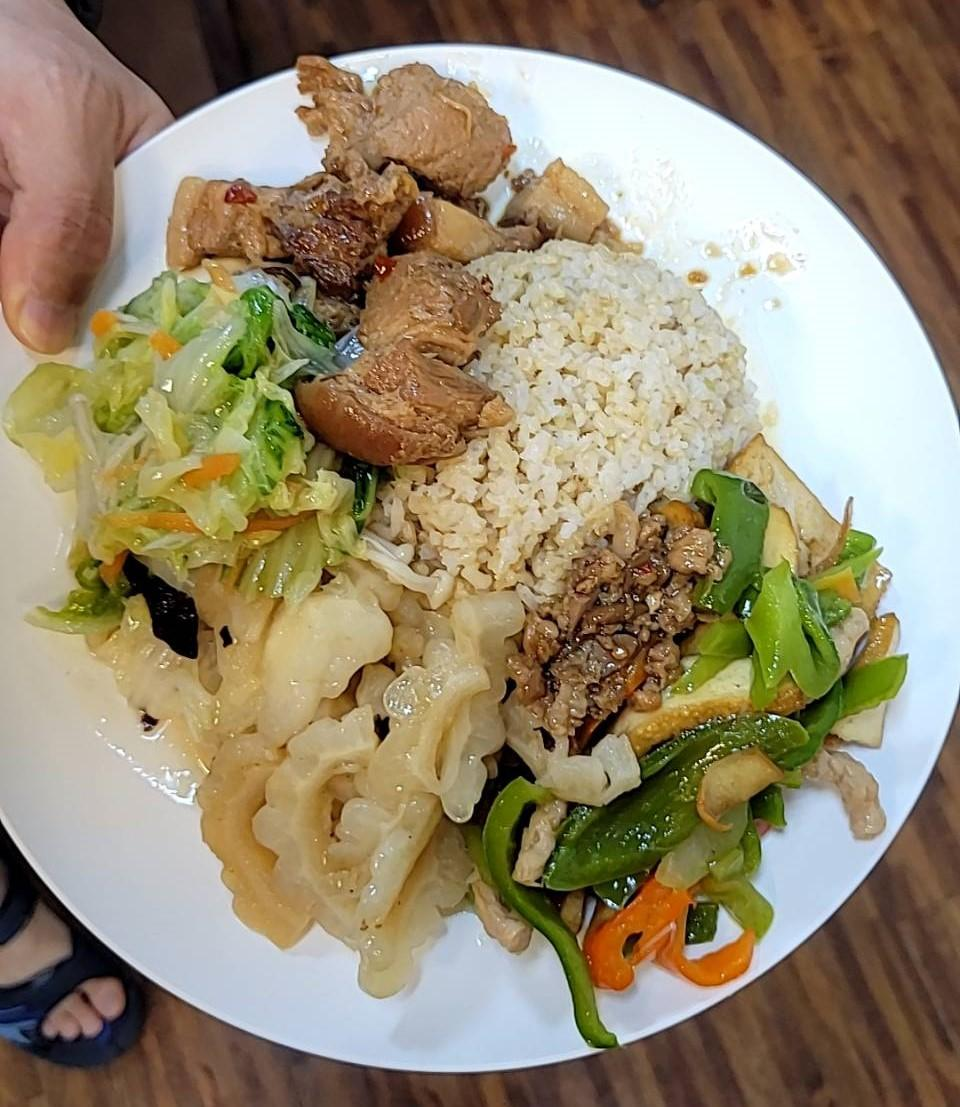big fried chicken leg: (0, 25, 946, 1099)
box: (323, 226, 768, 627)
braised fish fillet: (469, 438, 888, 1025), (190, 538, 537, 983), (25, 226, 365, 675)
braised pork: (154, 53, 621, 462)
